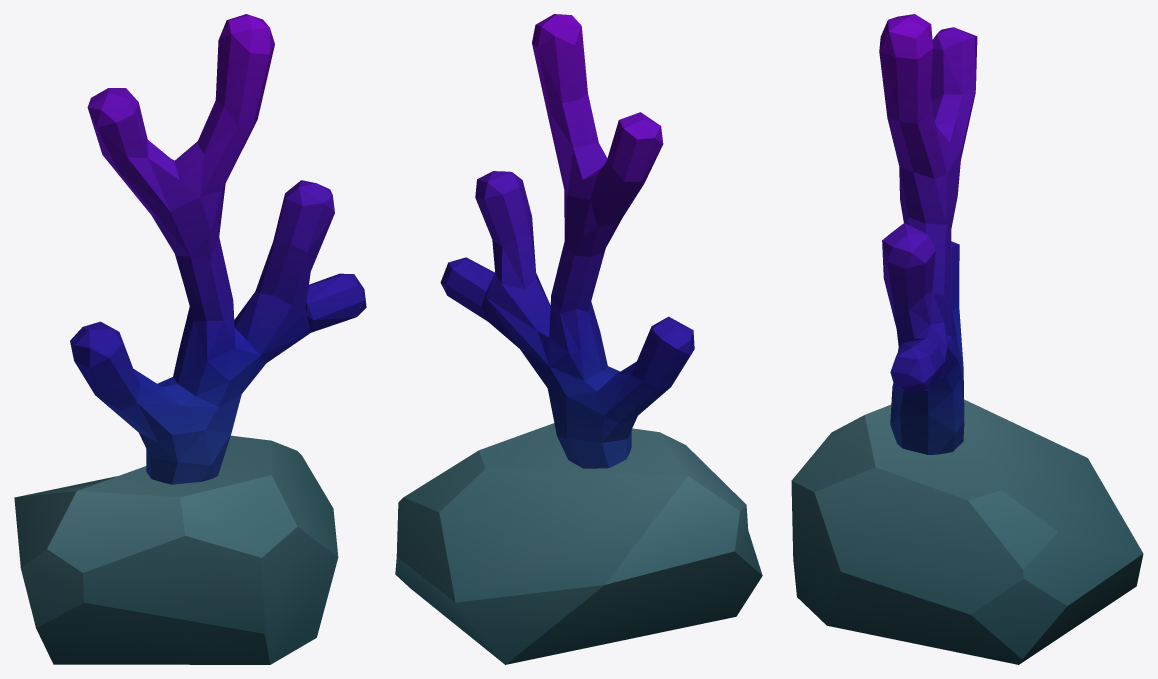
File: purple_coral_2.fbx
3 views of the same model, side by side, from view 1: azimuth 30°, elevation 25°; view 2: azimuth 150°, elevation 25°; view 3: azimuth 270°, elevation 25° (orthographic). The views are drawn at different scales.
Visible parts, largest first — view 1: purple_coral_2; view 2: purple_coral_2; view 3: purple_coral_2.
Boxes of the visible parts, left/top/right/bottom form: purple_coral_2: left=14, top=14, right=366, bottom=664; purple_coral_2: left=395, top=14, right=762, bottom=664; purple_coral_2: left=791, top=14, right=1143, bottom=664.
Bounding box in the file's own units: 0.6351 × 1.09 × 0.583.
